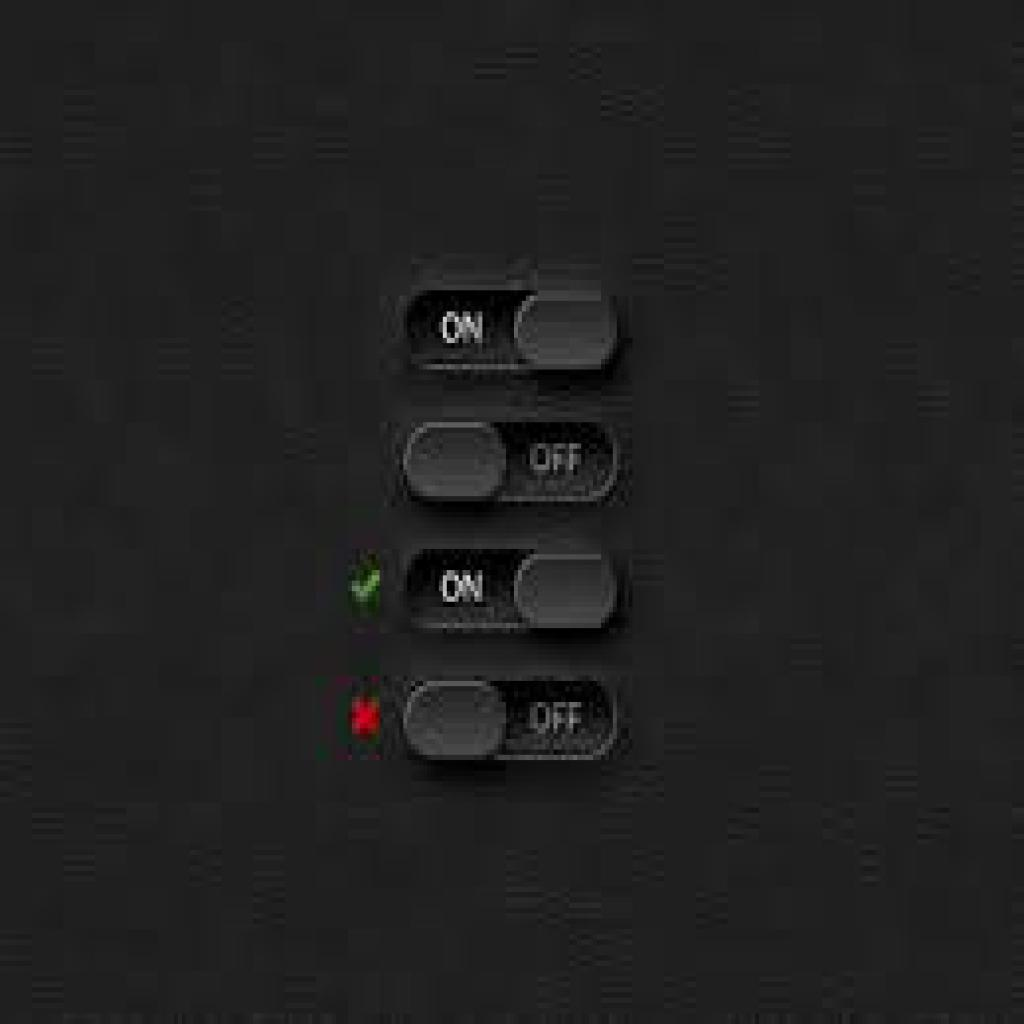switch: (403, 669, 624, 773), (410, 550, 635, 641), (405, 418, 624, 509), (403, 287, 624, 375)
